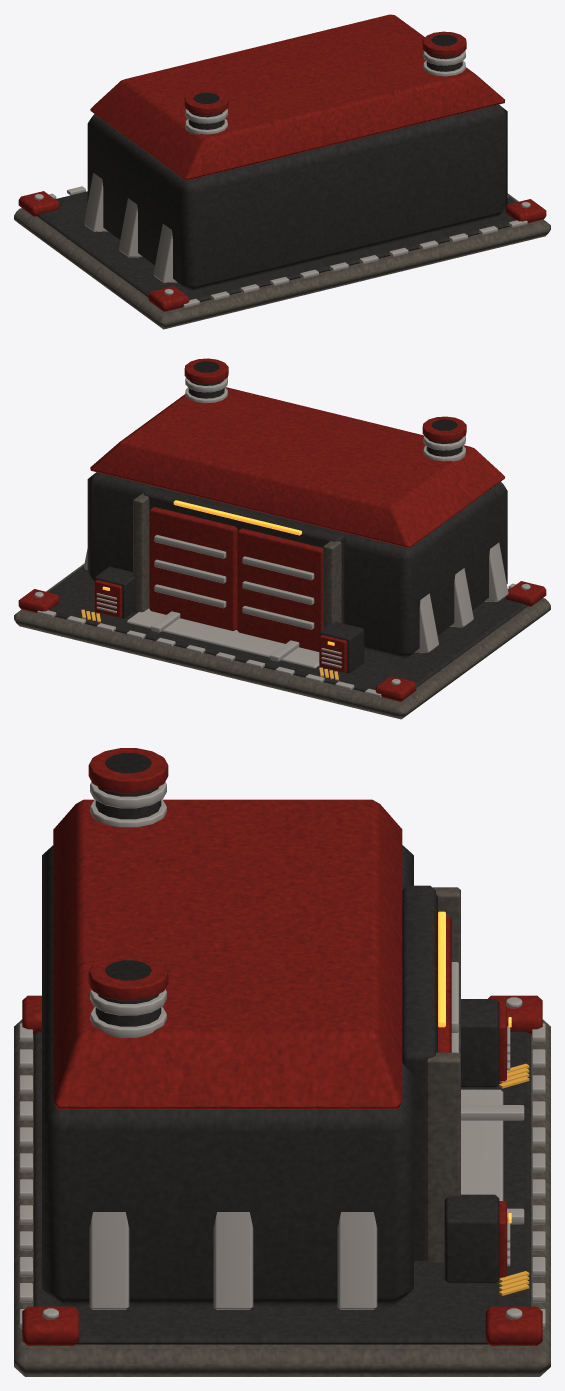
File: kharn_arsenal.gltf
3 renders of one model, top to bottom at view 1: azimuth 30°, elevation 25°; view 2: azimuth 150°, elevation 25°; view 3: azimuth 270°, elevation 25°, orthographic. The views are drawn at different scales.
Visible parts, largest first — view 1: Root.004_Geometry; view 2: Root.004_Geometry, Door_R.002_Geometry, Door_L.002_Geometry; view 3: Root.004_Geometry, Door_L.002_Geometry.
Boxes of the visible parts, x1,y1,x2,y2 form: Root.004_Geometry: (14,14,550,329); Root.004_Geometry: (14,358,550,719); Door_R.002_Geometry: (149,506,237,630); Door_L.002_Geometry: (237,528,322,651); Root.004_Geometry: (14,748,550,1376); Door_L.002_Geometry: (446,914,458,1039).
Bounding box in the file's own units: 5.94 × 2.79 × 3.94.
7 materials, 4 textured.
